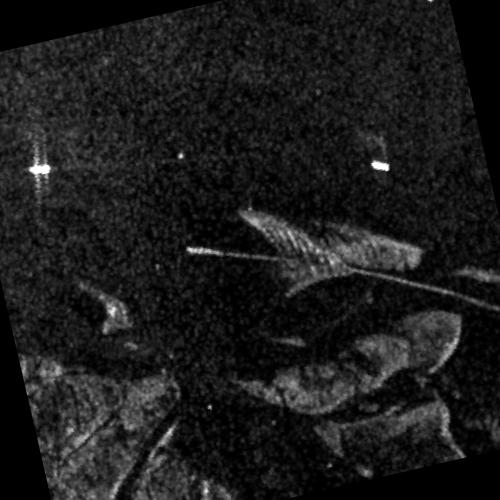ship: (28, 161, 51, 176), (370, 159, 390, 171)
